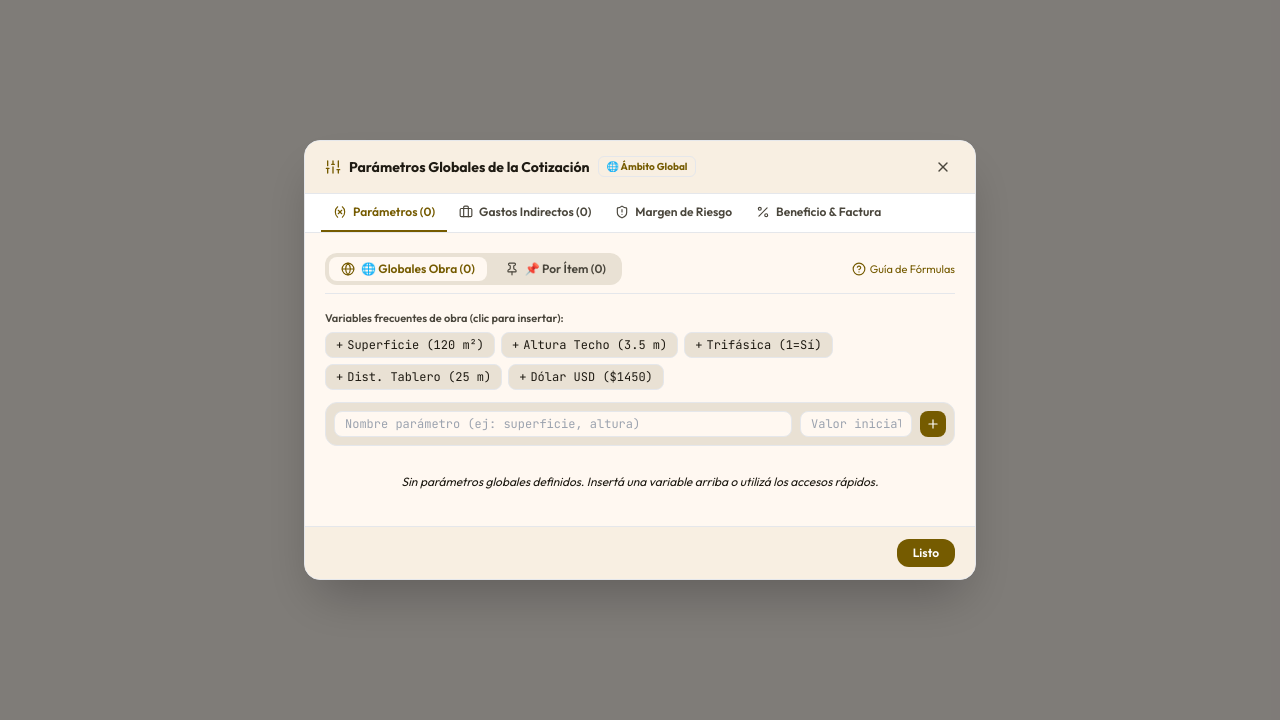
QuoteParametersModal › permite alternar la guía rápida de fórmulas y decisiones
Click the button "Guía de Fórmulas": (903,269) x1=852 y1=260 x2=955 y2=277
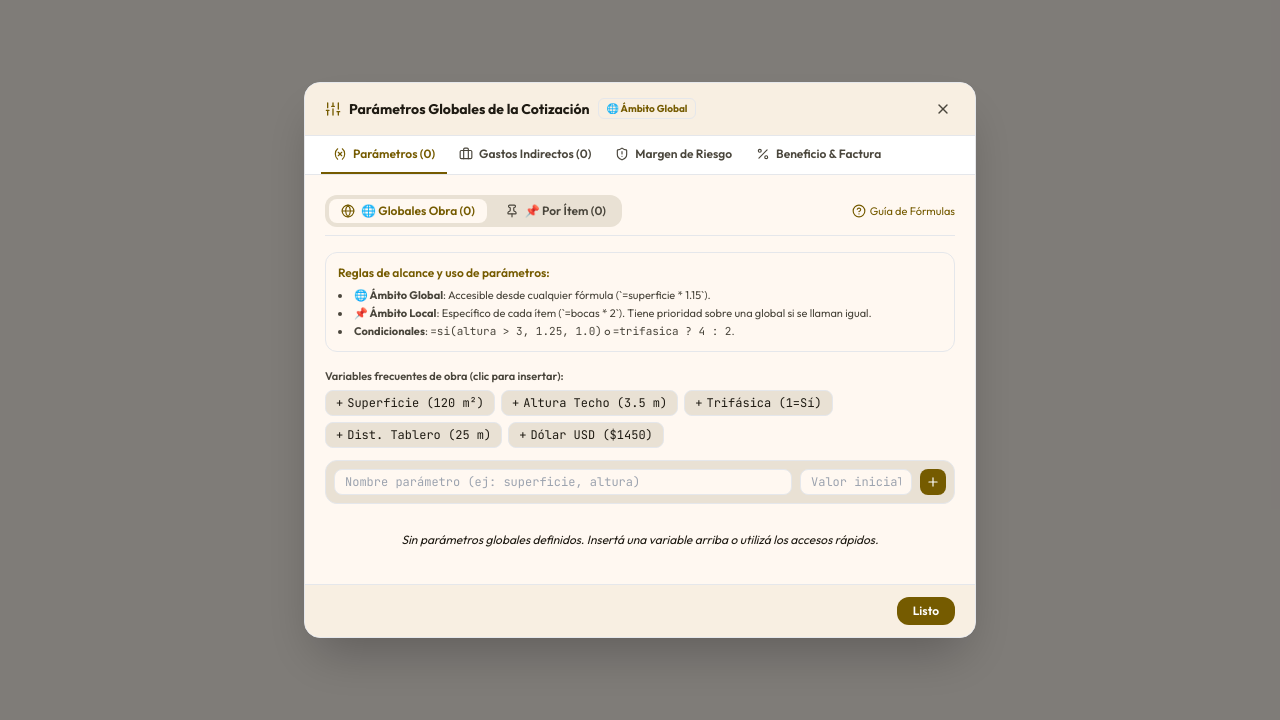
Check: the text "Reglas de alcance y uso de parámetros:" is shown, box x1=338 y1=265 x2=550 y2=280
